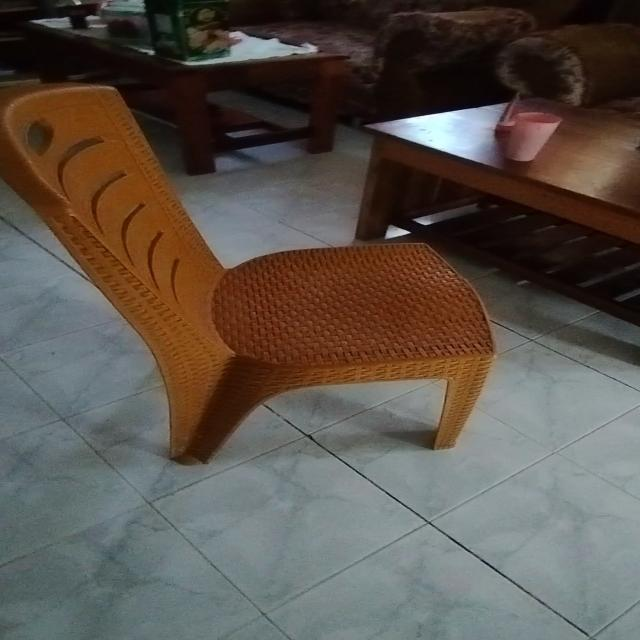chair: (1, 79, 522, 547)
